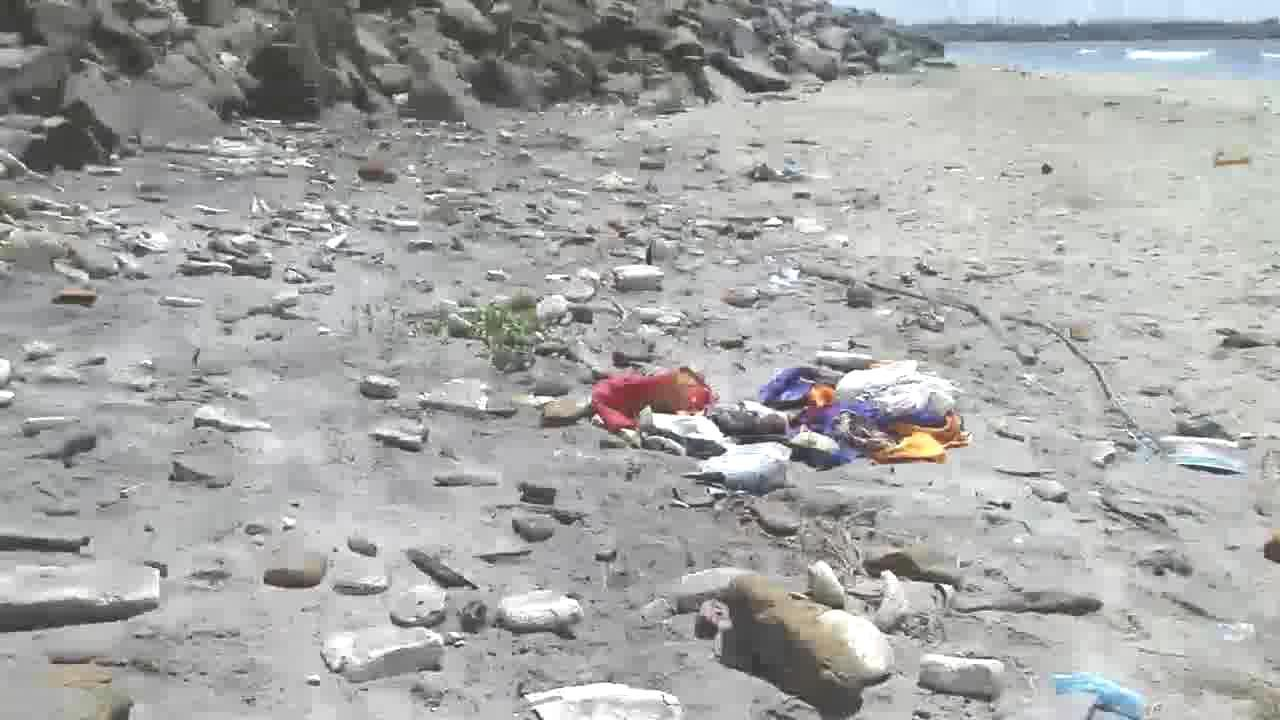large collection of objects: (413, 167, 722, 312), (330, 630, 459, 685), (12, 218, 126, 278), (487, 584, 588, 634), (344, 154, 402, 180)
obj: (794, 256, 1168, 456), (590, 358, 970, 492), (687, 563, 893, 711), (1, 560, 163, 635), (442, 289, 554, 373), (909, 650, 1013, 702), (524, 686, 685, 719), (1050, 672, 1157, 716), (1164, 431, 1246, 482), (190, 392, 274, 428), (413, 378, 488, 414), (376, 417, 425, 450), (352, 375, 408, 396)
sand/background: (1, 0, 1279, 182)
